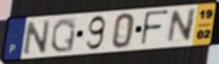0: (110, 12, 136, 50)
9: (85, 15, 107, 51)
F: (139, 9, 171, 47)
N: (165, 7, 198, 45), (22, 18, 52, 57)
Q: (49, 17, 77, 54)
